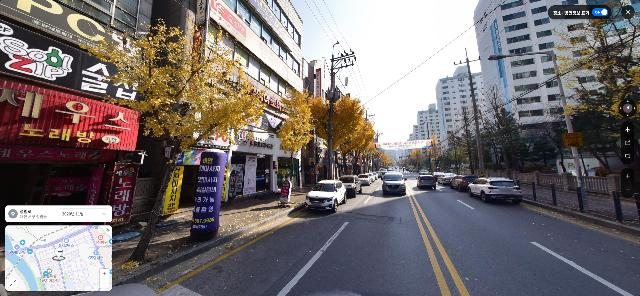ginkgo: (86, 17, 269, 265), (527, 0, 640, 215), (307, 93, 376, 184), (278, 88, 316, 201), (420, 137, 446, 175), (363, 139, 389, 174), (406, 148, 423, 171)
other: (472, 81, 522, 175), (443, 96, 476, 174)
